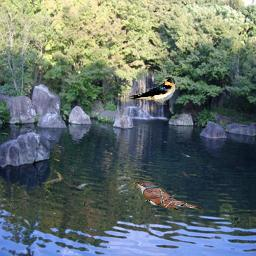Cuckoo: (132, 179, 203, 213)
Swallow: (120, 76, 176, 105)
